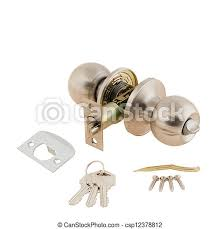key: (90, 168, 118, 211)
